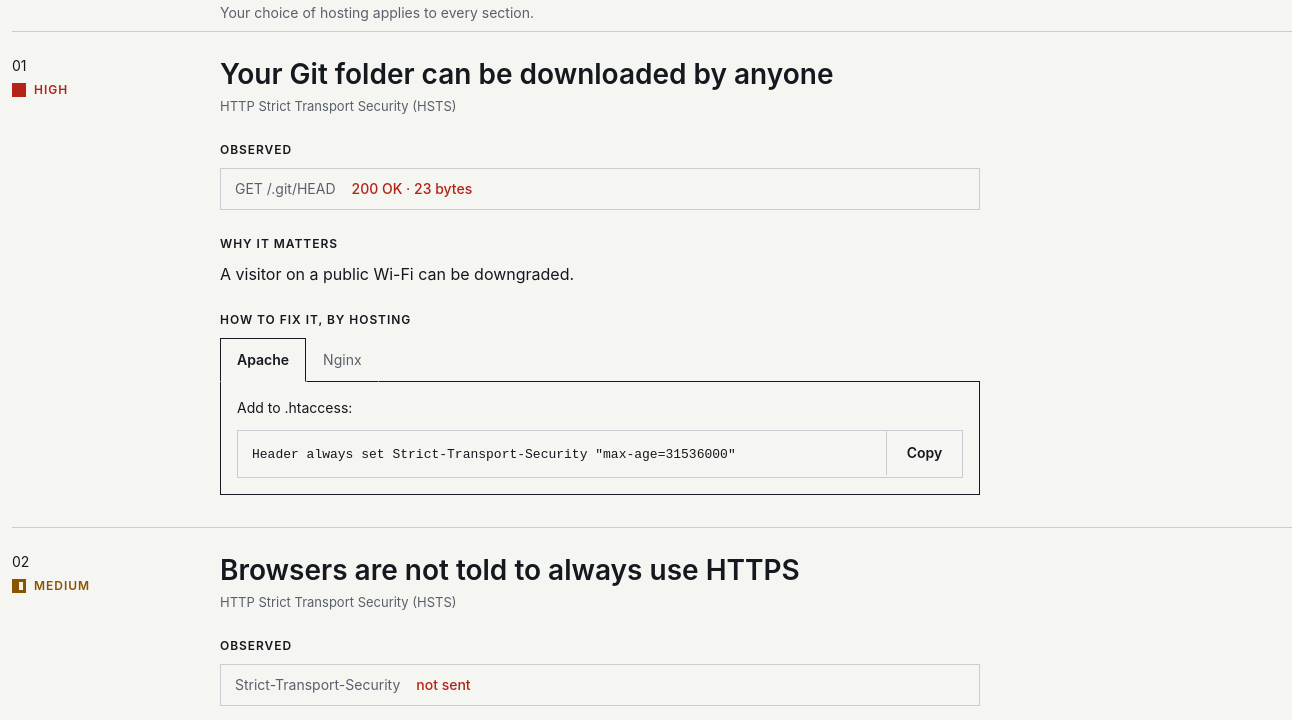
it: Report › applies one hosting choice to every section
(page scrolled)
Click the tab "Nginx" at [342, 360], box [306,338,379,382]
(page scrolled)
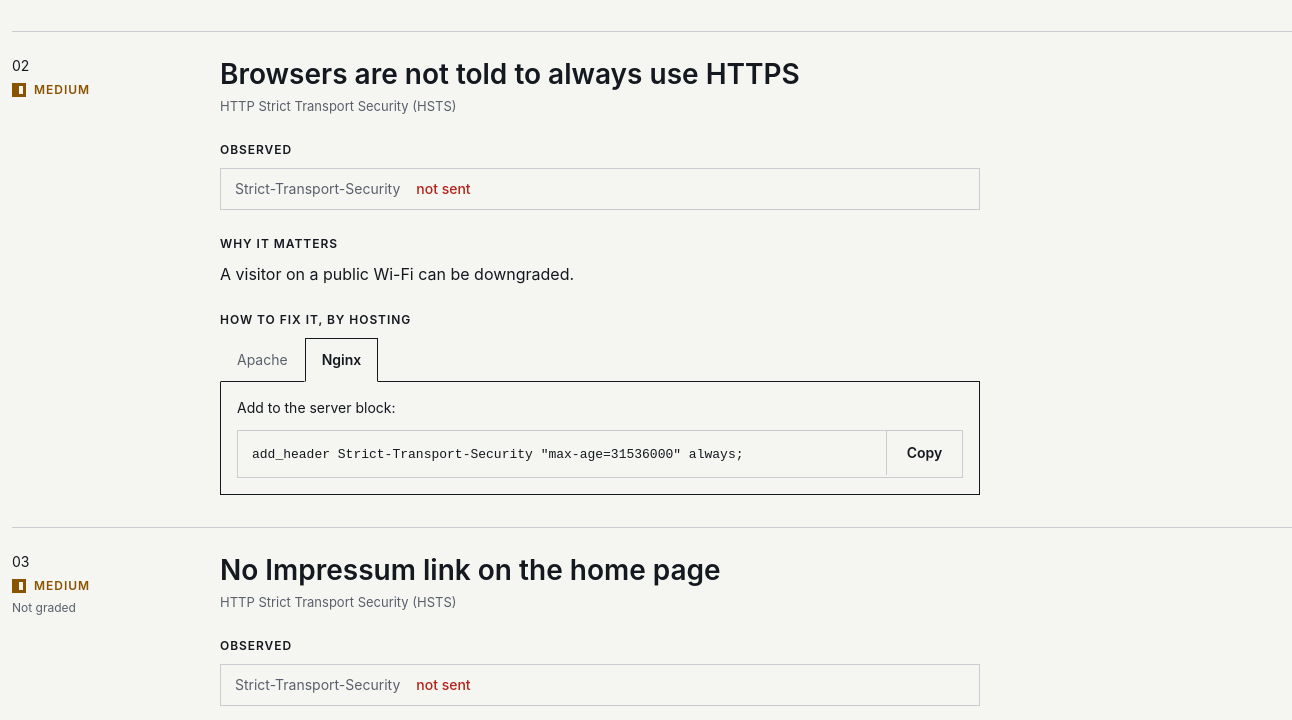
Expected: the tab "Nginx" is selected, [305,338,378,382]
